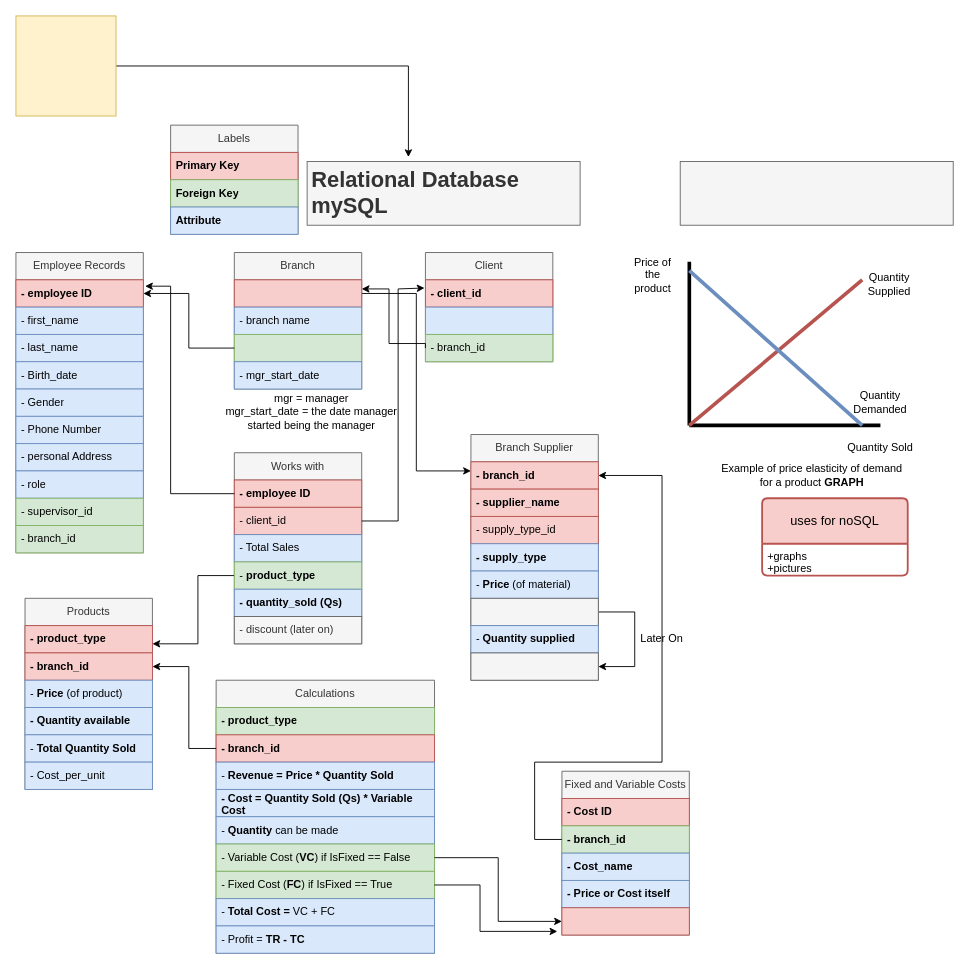
Image size: 969x969. Some labels were removed from this diagram. The centre of each missing label's shape, as x and y in pixels:
"- branch ID" belongs at [297,293].
"- client_name" belongs at [489,320].
"- delivery date" belongs at [534,666].
"- IsFixed (bool)" belongs at [625,921].
"- mgr_id" belongs at [297,348].
"- Quantity ordered" belongs at [534,611].
"Java Class with instantiation OR & AND SQL CRUD (Create, Read, Update, Delete)" belongs at [65,65].
"non-Relational Database noSQL" belongs at [816,193].
